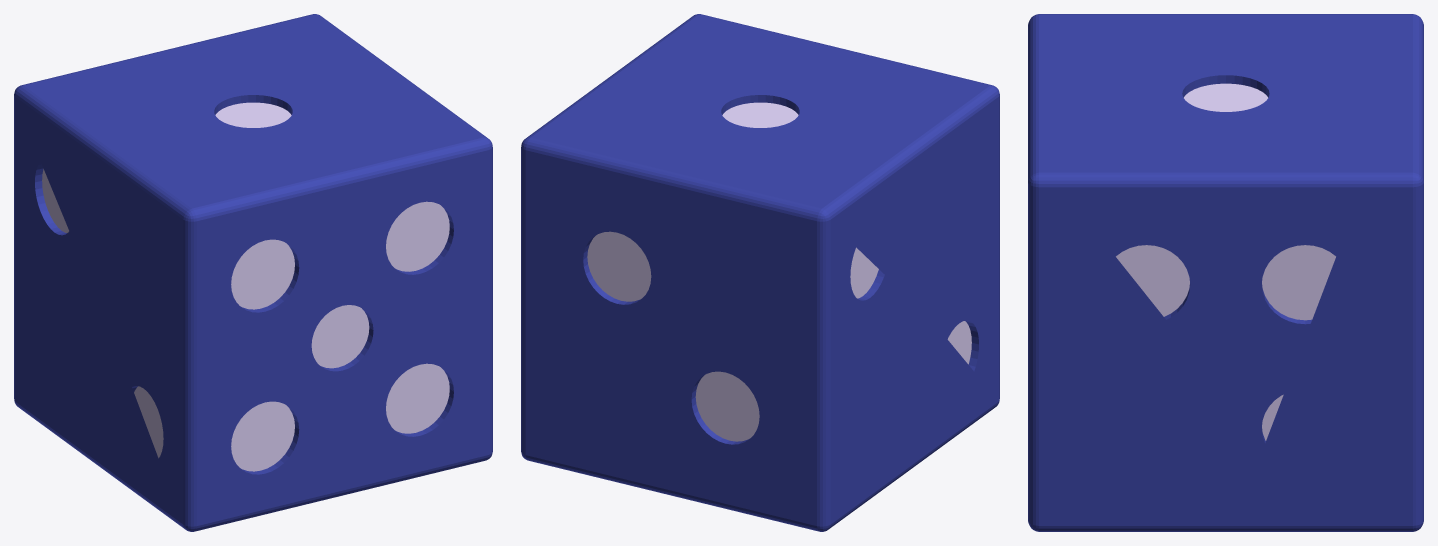
Rendered from Die.fbx.
3 renders of one model, left to right at view 1: azimuth 30°, elevation 25°; view 2: azimuth 150°, elevation 25°; view 3: azimuth 270°, elevation 25°, orthographic. The views are drawn at different scales.
Visible parts, largest first — view 1: Cube; view 2: Cube; view 3: Cube.
Boxes of the visible parts, box(x1,y1,x2,y2) form: Cube: box(14, 14, 492, 531); Cube: box(521, 14, 999, 531); Cube: box(1028, 14, 1423, 531).
Size of the model in its own units: 199 by 199 by 199.
